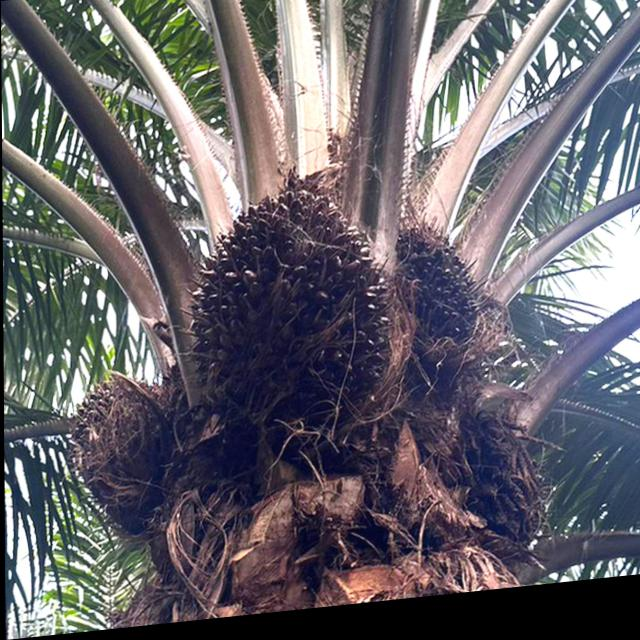ripe: (186, 180, 398, 449)
